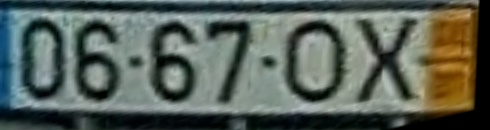0: (18, 15, 69, 103)
6: (70, 16, 125, 105), (147, 19, 200, 106)
7: (203, 17, 255, 109)
O: (280, 16, 349, 108)
X: (353, 15, 421, 106)
